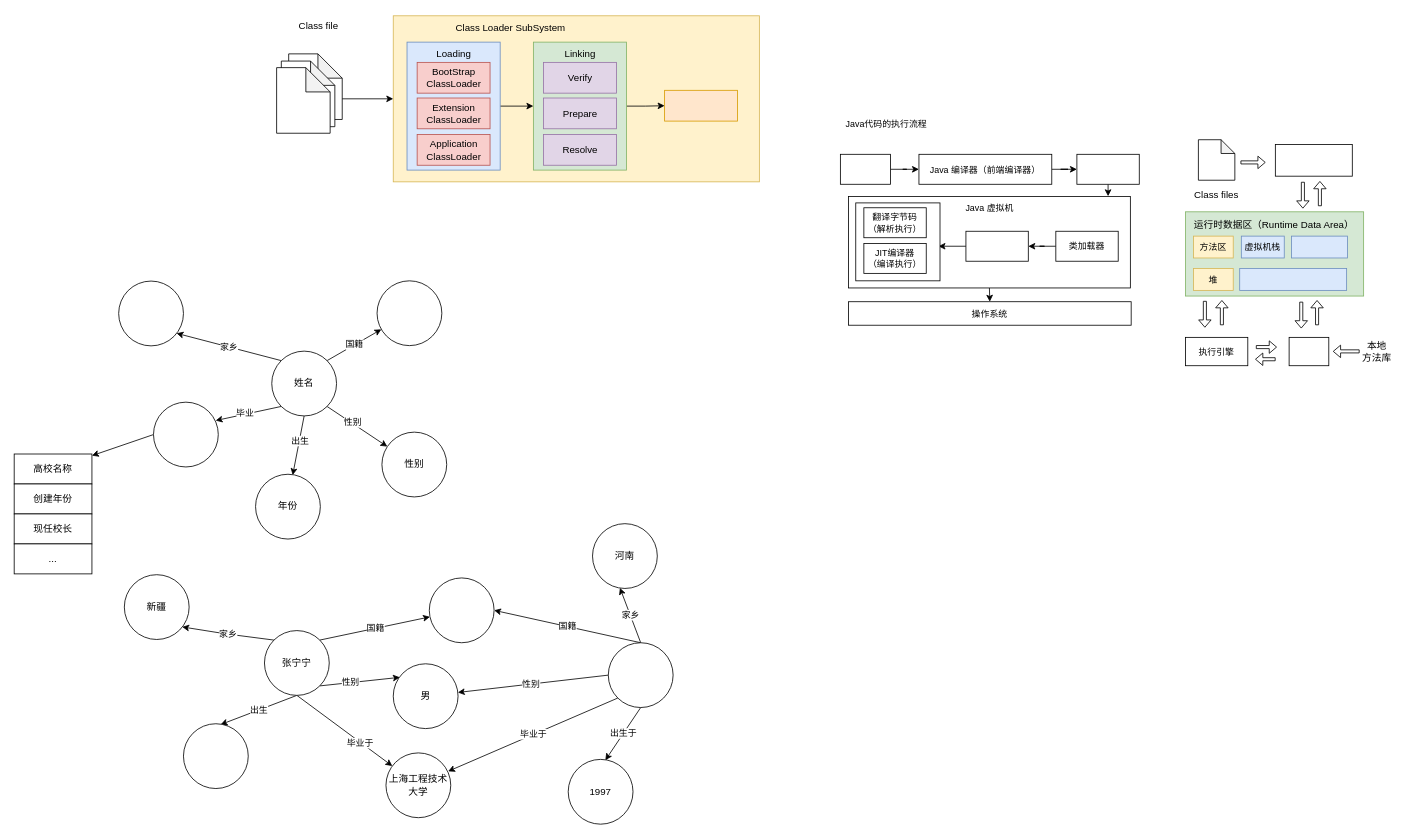
Some shapes in this 1413 by 838 pixel diagram are drawn without their labels. The centre of each missing label's shape, as x and y in pixels:
Initialization: the point at 701,105
Java 源码: the point at 865,168
中国: the point at 461,610
国家: the point at 409,313
城市: the point at 150,313
字节码文件: the point at 1107,168
字节码校验器: the point at 996,245
未知: the point at 215,756
本地方法区: the point at 1319,246
本地方法接口: the point at 1308,351
程序计数器: the point at 1293,279
类加载器子系统 Class loader: the point at 1313,160
胡继米: the point at 640,675
高校: the point at 185,434
